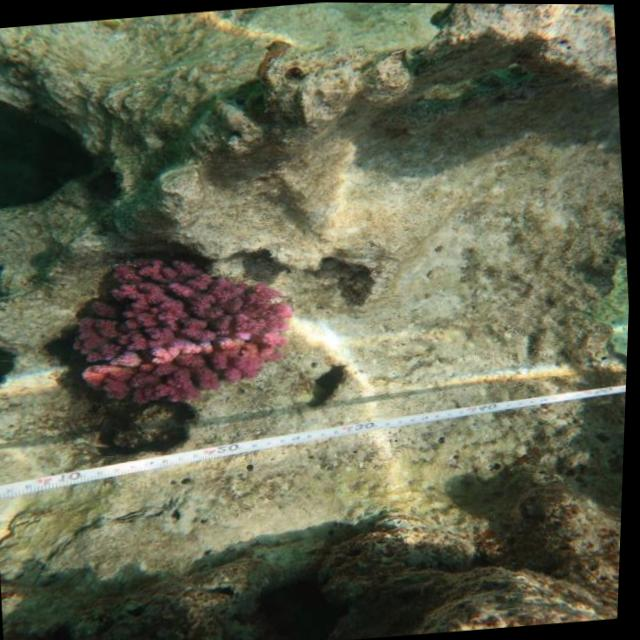Healthy Coral: (47, 235, 307, 412)
